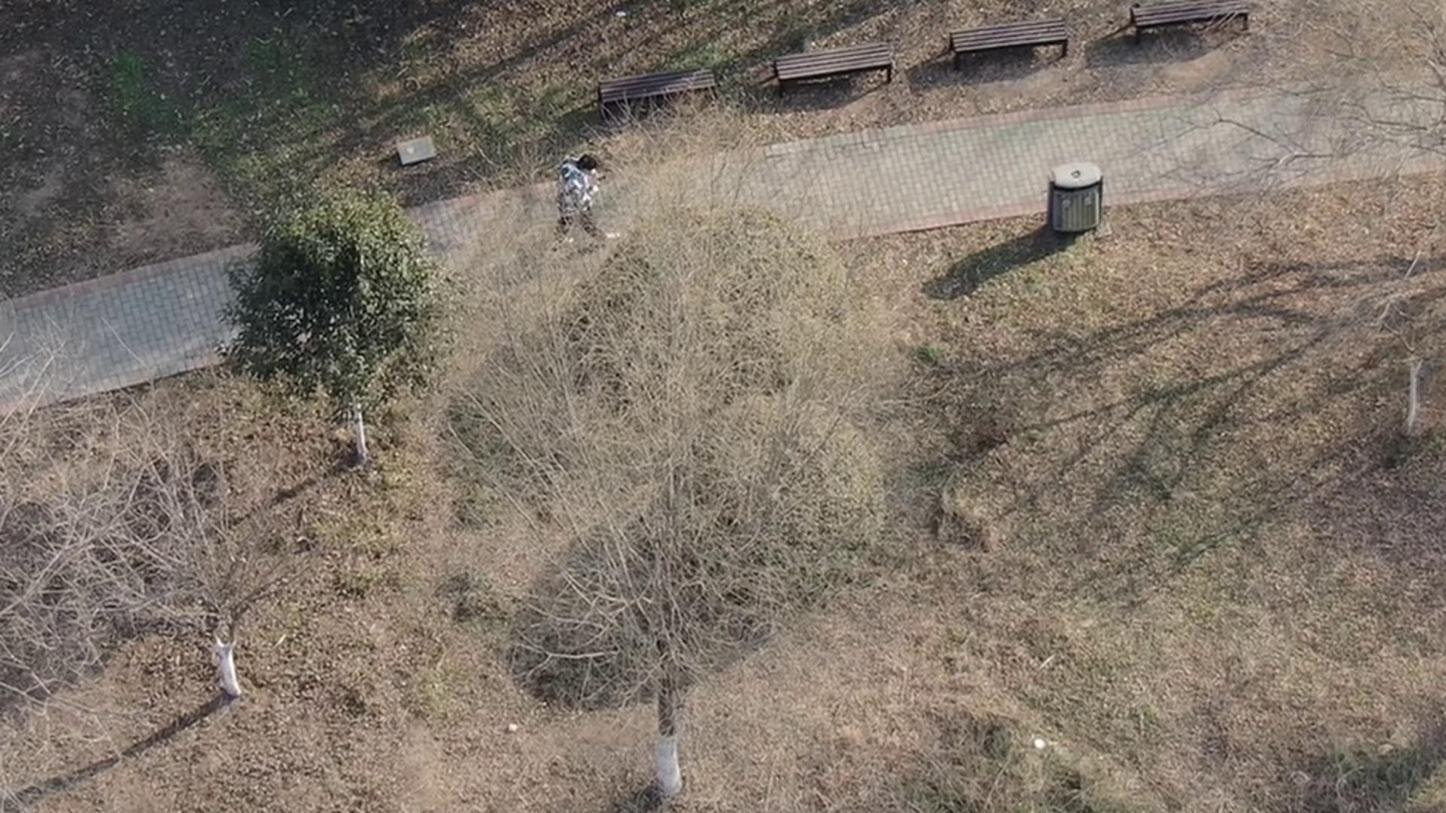human: (545, 162, 607, 279)
